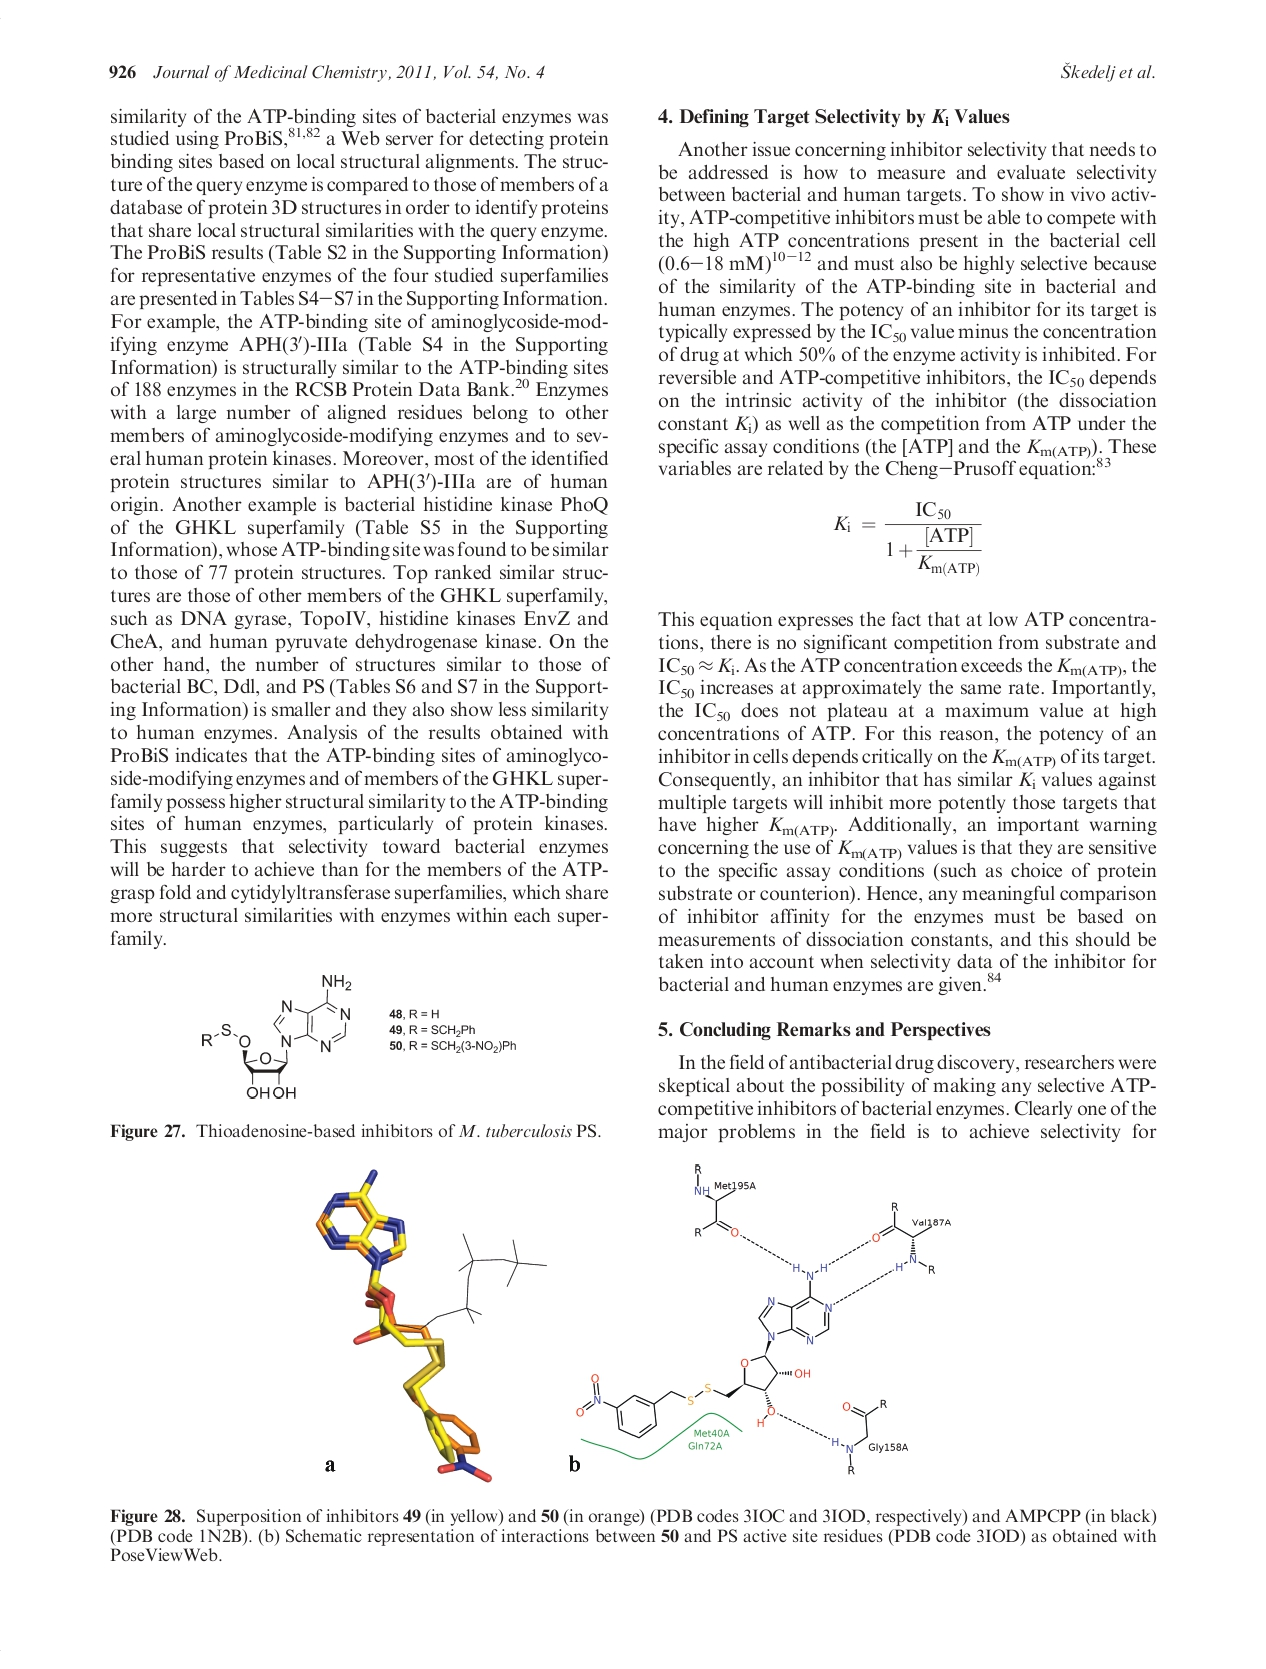exist_molecular: (573, 1261, 834, 1430), (195, 972, 356, 1104), (828, 1396, 910, 1477), (868, 1200, 951, 1279), (688, 1160, 757, 1243)
